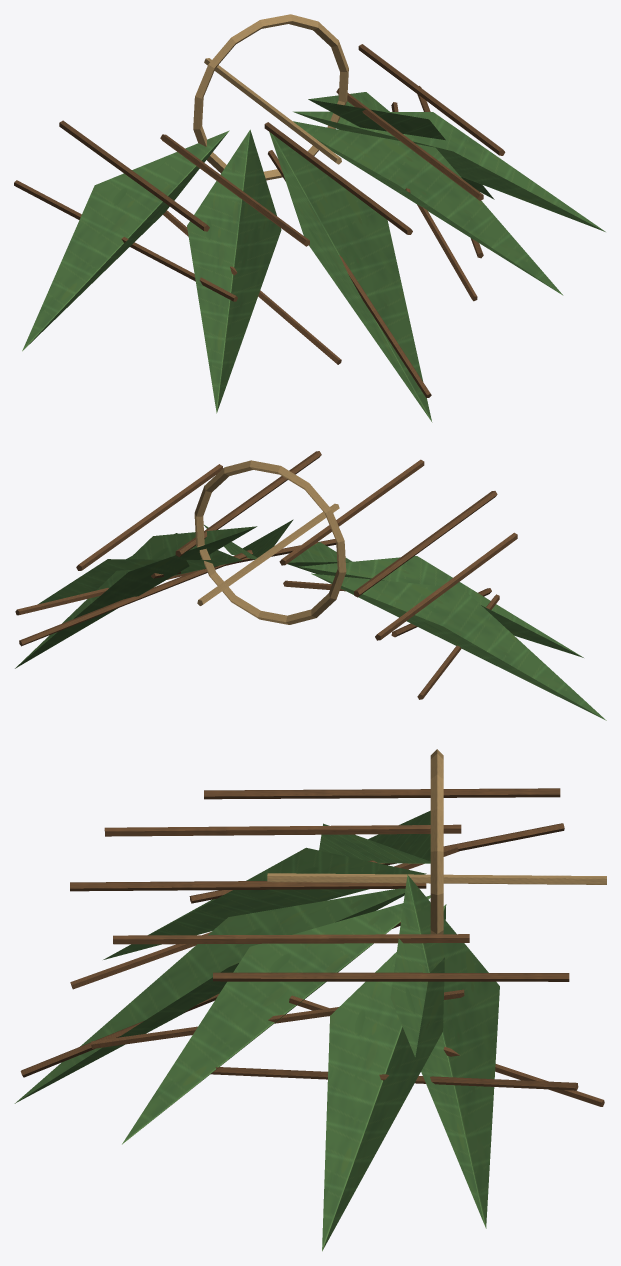
The model's file is pr-011_palm_leaf_pile__small.obj.
3 renders of one model, top to bottom at view 1: azimuth 30°, elevation 25°; view 2: azimuth 150°, elevation 25°; view 3: azimuth 270°, elevation 25°, orthographic. The views are drawn at different scales.
Parts seen in each view (by area): view 1: pr-011_palm_leaf_pile__small; view 2: pr-011_palm_leaf_pile__small; view 3: pr-011_palm_leaf_pile__small.
Boxes of the visible parts, x1,y1,x2,y2 form: pr-011_palm_leaf_pile__small: (14, 14, 605, 422); pr-011_palm_leaf_pile__small: (15, 451, 606, 720); pr-011_palm_leaf_pile__small: (14, 749, 606, 1251).
Bounding box in the file's own units: 1.43 × 0.6483 × 0.9983.
Materials: 3 (3 with a texture image).
